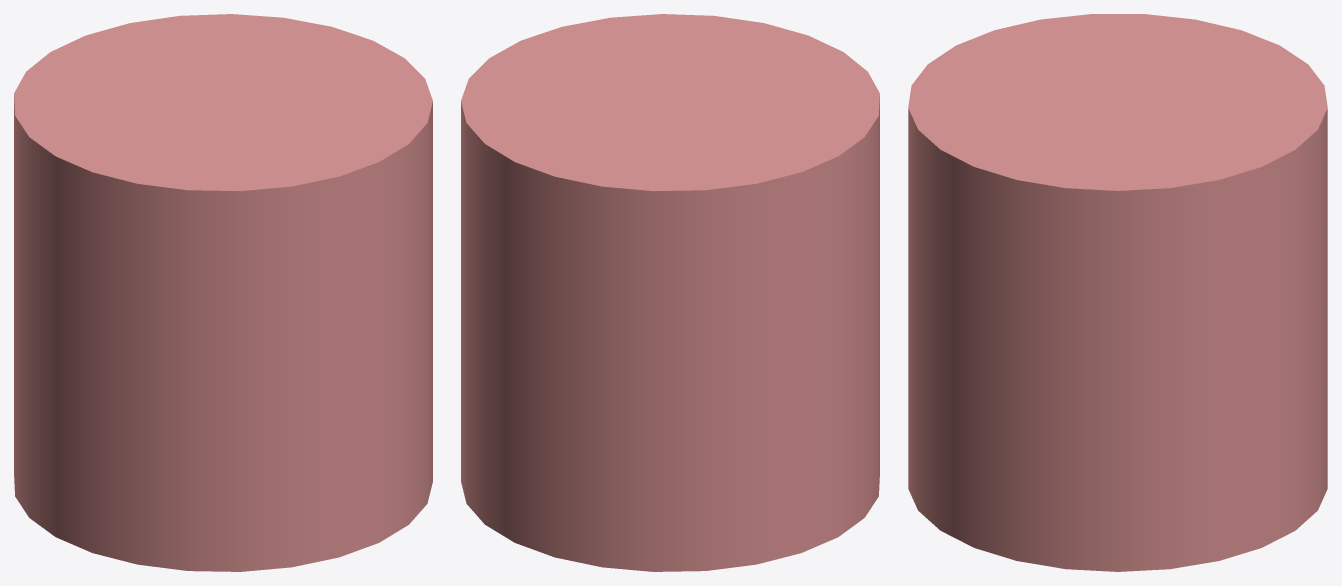
3 renders of one model, left to right at view 1: azimuth 30°, elevation 25°; view 2: azimuth 150°, elevation 25°; view 3: azimuth 270°, elevation 25°, orthographic.
Parts seen in each view (by area): view 1: Cylinder001; view 2: Cylinder001; view 3: Cylinder001.
Part boxes in pixels (box(x1,y1,x2,y2)): Cylinder001: box(14, 14, 432, 571); Cylinder001: box(461, 14, 879, 571); Cylinder001: box(908, 14, 1327, 571).
Size of the model in its own units: 0.9961 by 0.998 by 1.
